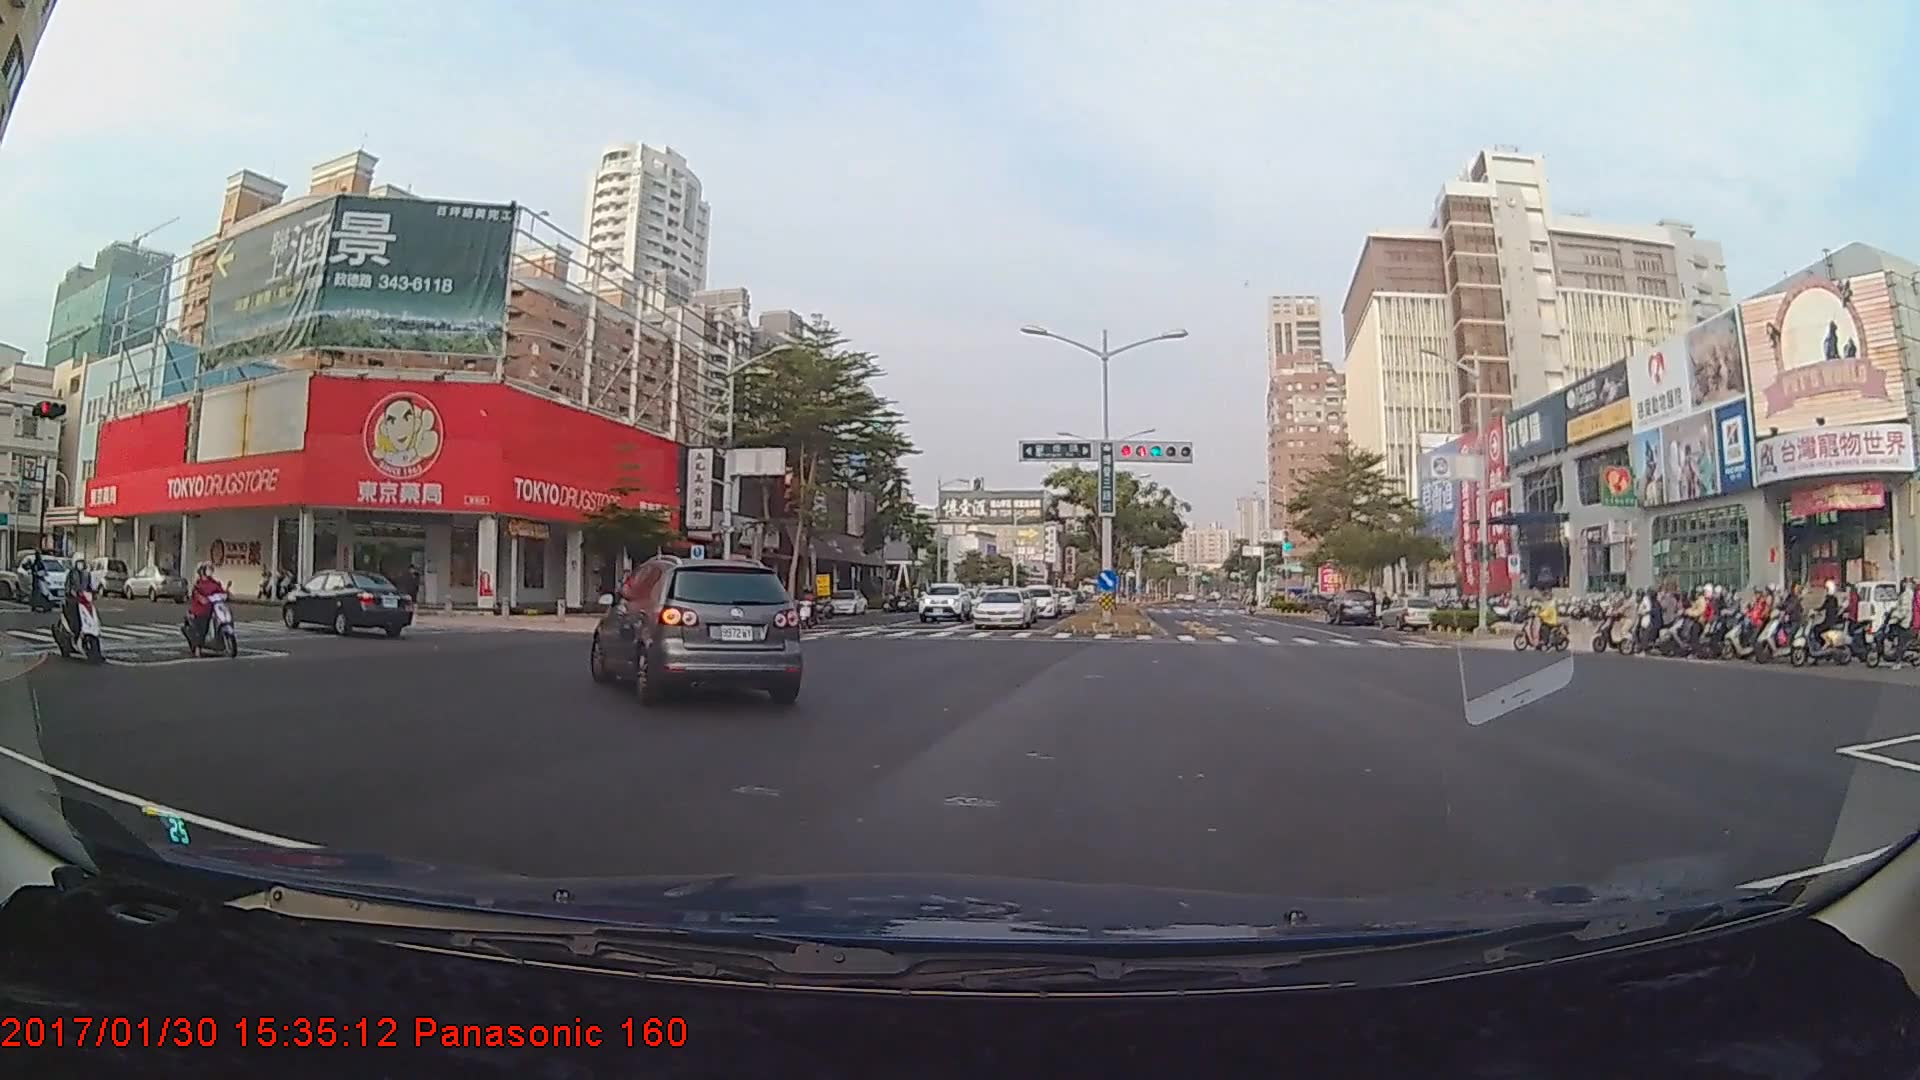rider: (48, 555, 108, 664), (176, 561, 239, 660), (1706, 584, 1776, 662), (1605, 596, 1680, 656), (1662, 586, 1721, 659), (1749, 584, 1805, 659), (1510, 585, 1572, 653), (1669, 593, 1718, 658)
vehicle: (594, 555, 799, 704), (280, 567, 415, 639), (16, 553, 76, 604), (970, 588, 1033, 630), (915, 581, 972, 622), (39, 555, 96, 592), (1323, 587, 1374, 624), (1019, 583, 1058, 616), (824, 587, 866, 614)
